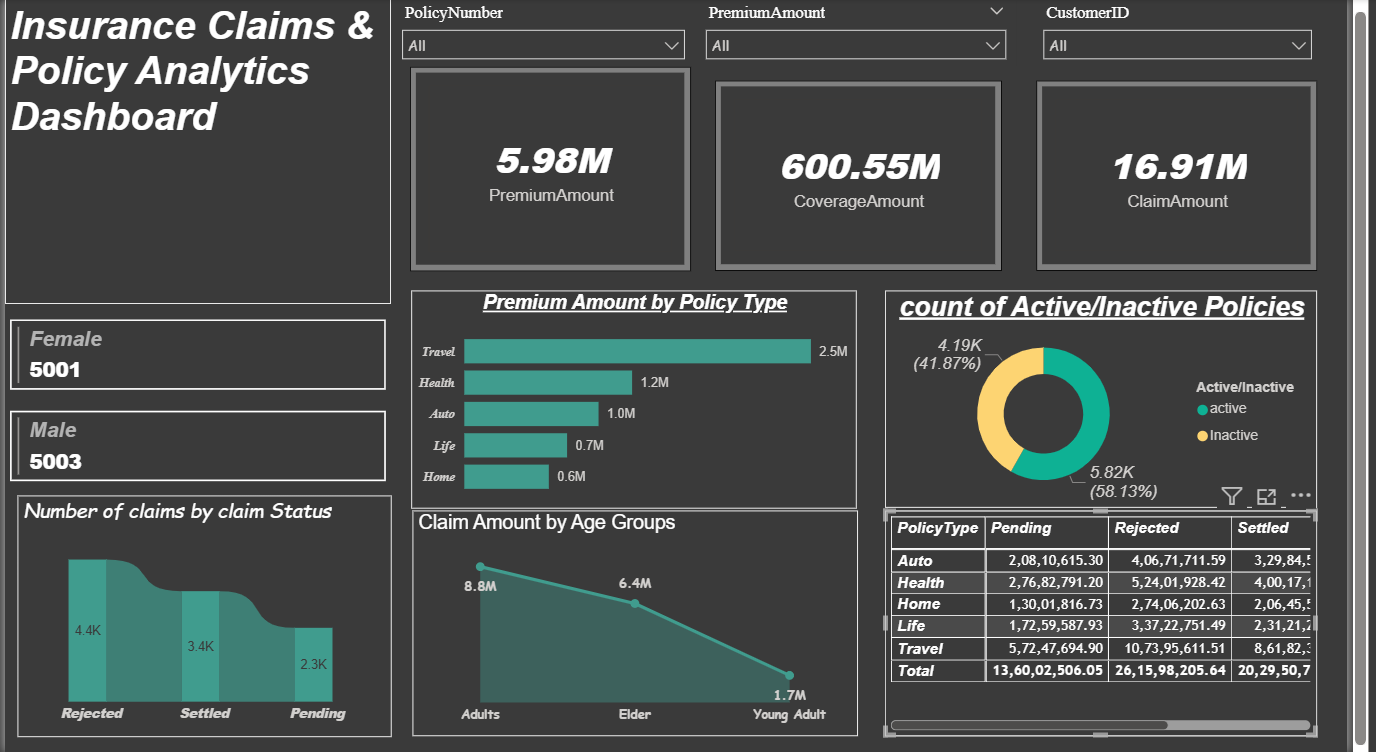

The dashboard page shown, as its layout file describes it:
{"tool":"powerbi","page":{"name":"Page 1","canvas":[1280,720],"ordinal":0},"visuals":[{"type":"slicer","fields":{"Values":["InsuranceData.PolicyNumber"]},"box":[368.3,0,290,78.3],"z":0},{"type":"slicer","fields":{"Values":["InsuranceData.PremiumAmount"]},"box":[658.3,0,306.7,65],"z":1000},{"type":"slicer","fields":{"Values":["InsuranceData.CustomerID"]},"box":[980,0,276.7,65],"z":2000},{"type":"textbox","box":[0,0,368.3,291.7],"z":3000},{"type":"cardVisual","fields":{"Data":["Sum(InsuranceData.PremiumAmount)"]},"box":[386.7,65,268.3,195],"z":4000},{"type":"cardVisual","fields":{"Data":["Sum(InsuranceData.CoverageAmount)"]},"box":[676.7,78.3,273.3,181.7],"z":5000},{"type":"cardVisual","fields":{"Data":["Sum(InsuranceData.ClaimAmount)"]},"box":[983.3,78.3,268.3,181.7],"z":6000},{"type":"multiRowCard","fields":{"Values":["InsuranceData.Gender","CountNonNull(InsuranceData.Gender)"]},"box":[0,301.7,368.3,185],"z":7000},{"type":"ribbonChart","title":"Number of claims by claim Status","fields":{"Category":["InsuranceData.ClaimStatus"],"Y":["CountNonNull(InsuranceData.ClaimStatus)"]},"box":[11.7,475,356.7,230],"z":8000},{"type":"barChart","title":"Premium Amount by Policy Type","fields":{"Category":["InsuranceData.PolicyType"],"Y":["Sum(InsuranceData.PremiumAmount)"]},"box":[386.9,278.6,425,208.3],"z":9000},{"type":"lineChart","title":"Claim Amount by Age Groups","fields":{"Category":["InsuranceData.Age Groups"],"Y":["Sum(InsuranceData.ClaimAmount)"]},"box":[388.1,489.3,425,215.5],"z":10000},{"type":"donutChart","title":"count of Active/Inactive Policies","fields":{"Category":["InsuranceData.Active/Inactive"],"Y":["CountNonNull(InsuranceData.Active/Inactive)"]},"box":[839.3,278.6,411.9,207.1],"z":11000},{"type":"pivotTable","fields":{"Values":["Sum(InsuranceData.CoverageAmount)"],"Rows":["InsuranceData.PolicyType"],"Columns":["InsuranceData.ClaimStatus"]},"box":[839.3,489.3,411.9,215.5],"z":12000}]}

Visuals, with their boxes in screenshot pixels (x1, y1, x2, y2), scaled from the page's 1280x720 canvas onto the 1376x752 screenshot:
slicer - InsuranceData.PolicyNumber: 396, 0, 708, 82
slicer - InsuranceData.PremiumAmount: 708, 0, 1037, 68
slicer - InsuranceData.CustomerID: 1054, 0, 1351, 68
textbox: 0, 0, 396, 305
cardVisual - Sum(InsuranceData.PremiumAmount): 416, 68, 704, 272
cardVisual - Sum(InsuranceData.CoverageAmount): 727, 82, 1021, 272
cardVisual - Sum(InsuranceData.ClaimAmount): 1057, 82, 1345, 272
multiRowCard - InsuranceData.Gender x CountNonNull(InsuranceData.Gender): 0, 315, 396, 508
"Number of claims by claim Status" ribbonChart: 13, 496, 396, 736
"Premium Amount by Policy Type" barChart: 416, 291, 873, 509
"Claim Amount by Age Groups" lineChart: 417, 511, 874, 736
"count of Active/Inactive Policies" donutChart: 902, 291, 1345, 507
pivotTable - Sum(InsuranceData.CoverageAmount) x InsuranceData.PolicyType: 902, 511, 1345, 736
